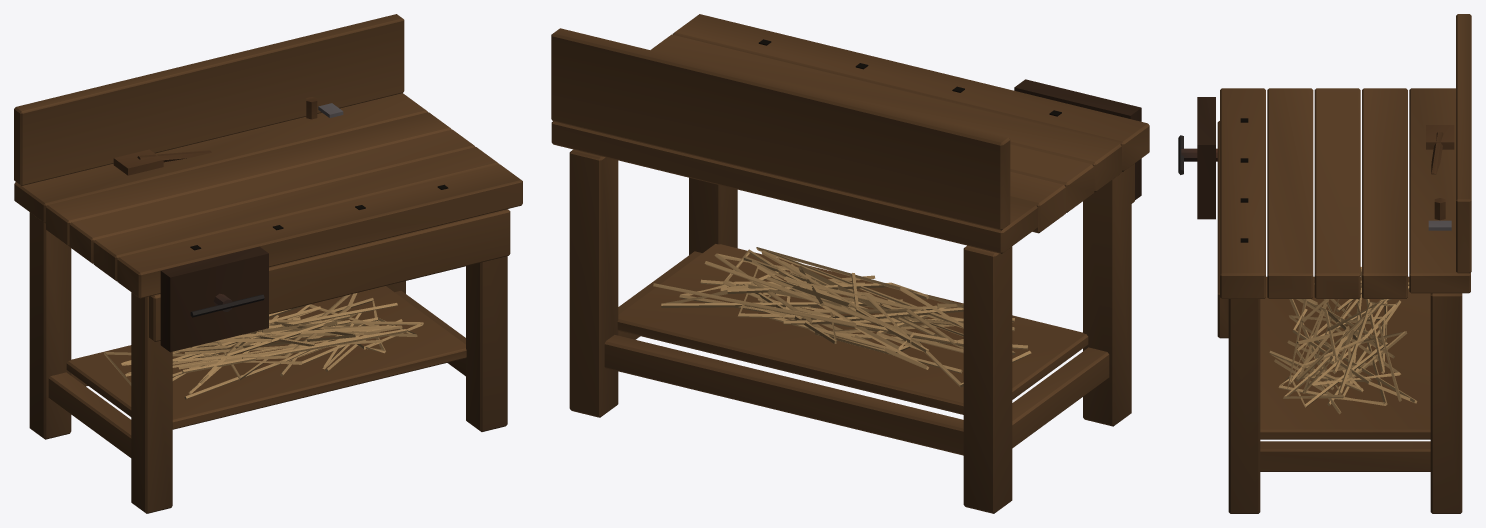
Rendered from workbench.glb.
3 views of the same model, side by side, from view 1: azimuth 30°, elevation 25°; view 2: azimuth 150°, elevation 25°; view 3: azimuth 270°, elevation 25° (orthographic). The views are drawn at different scales.
Visible parts, largest first — view 1: workbench-bench, workbench-iron; view 2: workbench-bench; view 3: workbench-bench, workbench-iron.
Boxes of the visible parts, <box> form: workbench-bench: <box>14,14,522,513</box>; workbench-iron: <box>190,103,343,317</box>; workbench-bench: <box>551,14,1149,513</box>; workbench-bench: <box>1197,14,1471,513</box>; workbench-iron: <box>1178,135,1451,230</box>.
Size of the model in its own units: 1.4 by 1.12 by 0.93.
